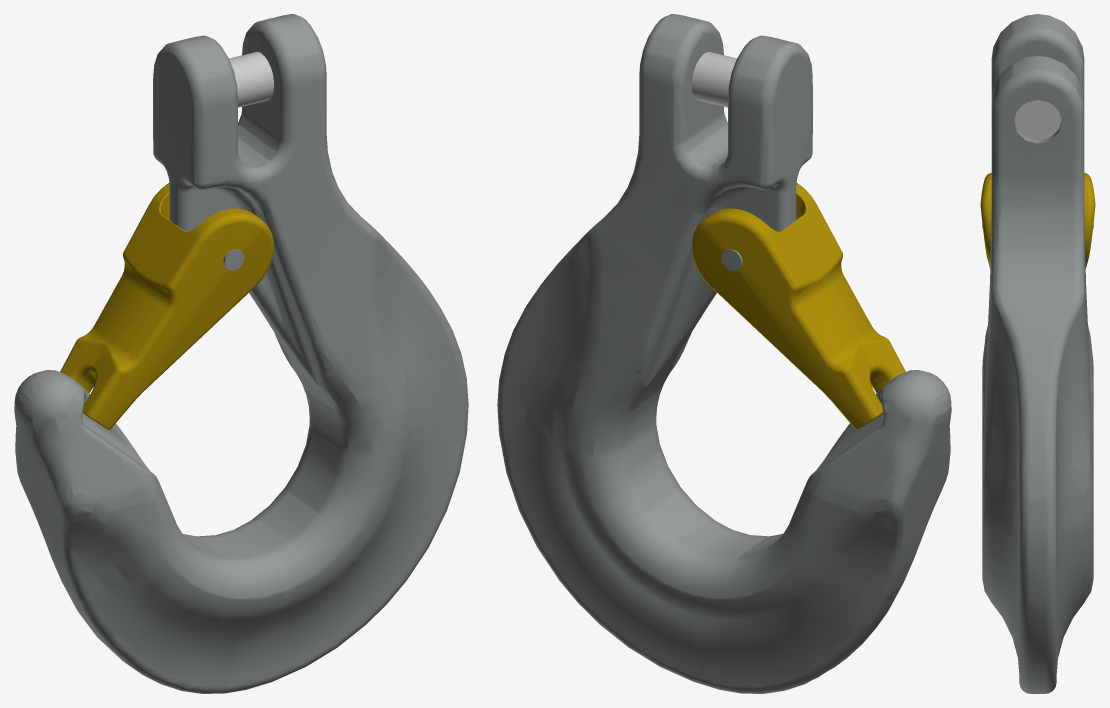
The model's file is hook.glb.
The picture shows the model from 3 angles, left to right: view 1: azimuth 30°, elevation 25°; view 2: azimuth 150°, elevation 25°; view 3: azimuth 270°, elevation 25°; orthographic projection. The views are drawn at different scales.
Visible parts, largest first — view 1: Object_2, Object_4, Object_3; view 2: Object_2, Object_4, Object_3; view 3: Object_2, Object_4, Object_3.
Boxes of the visible parts, left/top/right/bottom form: Object_2: left=14, top=14, right=468, bottom=693; Object_4: left=60, top=183, right=273, bottom=429; Object_3: left=229, top=51, right=274, bottom=107; Object_2: left=497, top=14, right=951, bottom=693; Object_4: left=692, top=183, right=905, bottom=429; Object_3: left=691, top=52, right=736, bottom=107; Object_2: left=982, top=14, right=1093, bottom=693; Object_4: left=980, top=172, right=1095, bottom=268; Object_3: left=1014, top=100, right=1061, bottom=140.
Size of the model in its own units: 0.132 by 0.187 by 0.031.
